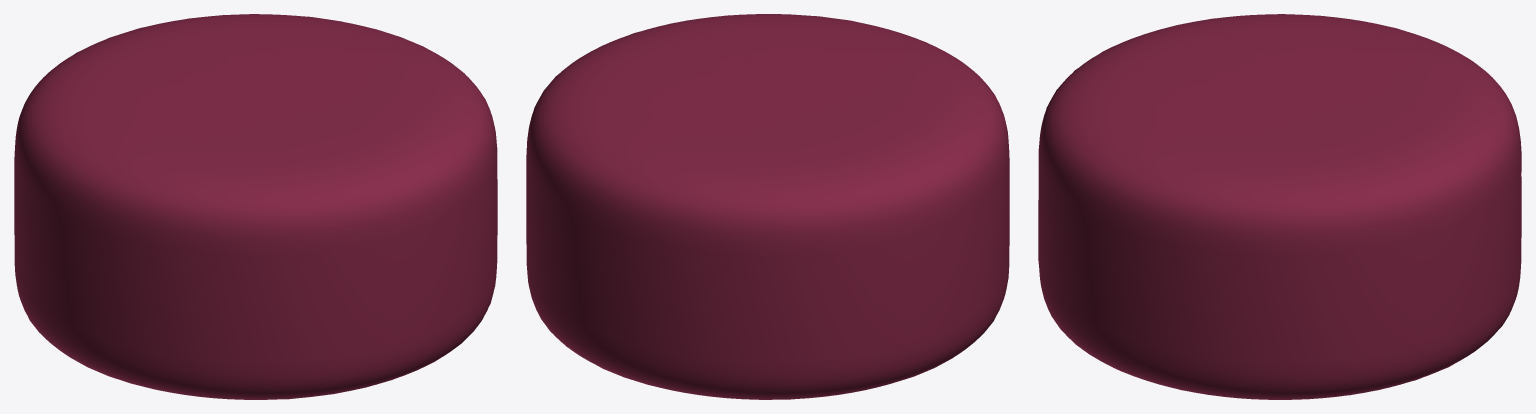
File: layer-velvet.glb
3 views of the same model, side by side, from view 1: azimuth 30°, elevation 25°; view 2: azimuth 150°, elevation 25°; view 3: azimuth 270°, elevation 25° (orthographic).
Visible parts, largest first — view 1: velvet (×2); view 2: velvet (×2); view 3: velvet (×2).
Part boxes in pixels (x1=…): velvet (×2): x1=14, y1=14, x2=497, y2=399; velvet (×2): x1=526, y1=14, x2=1009, y2=399; velvet (×2): x1=1038, y1=14, x2=1521, y2=399.
Bounding box in the file's own units: 0.8998 × 0.46 × 0.9002.
